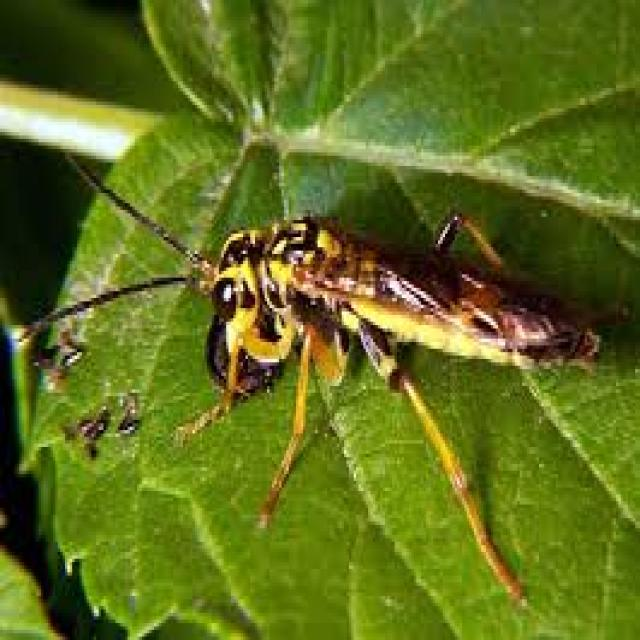Saw Fly: (14, 146, 605, 621)
